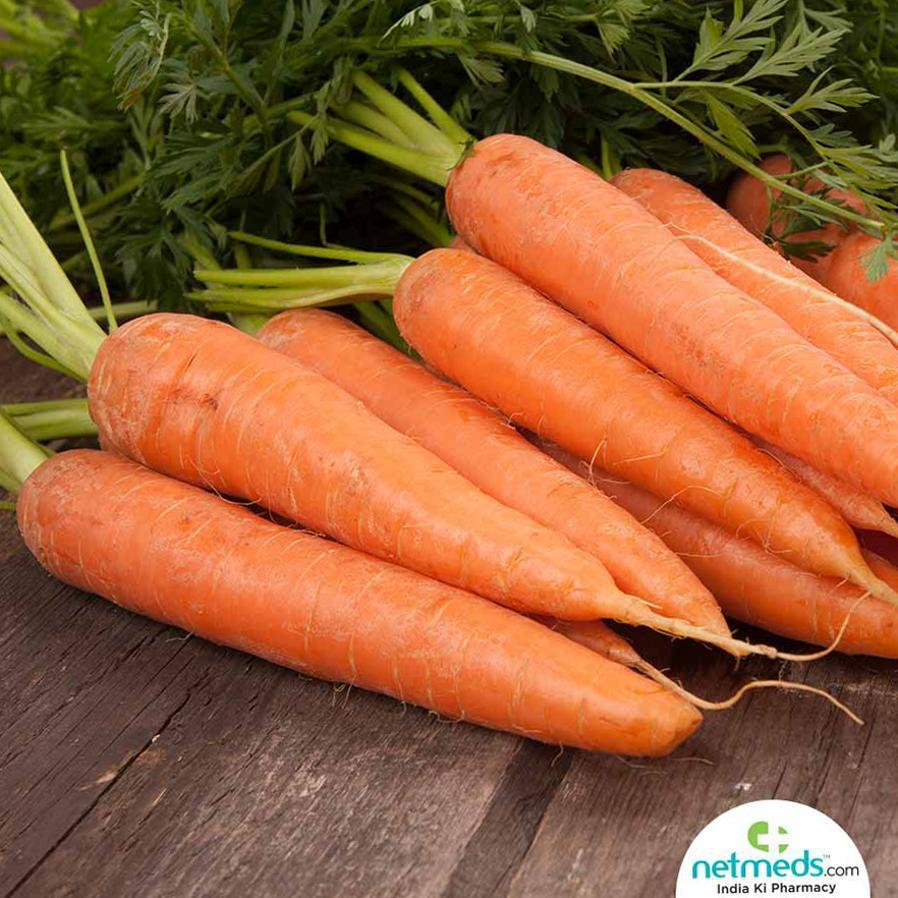carrot: (396, 129, 898, 580)
